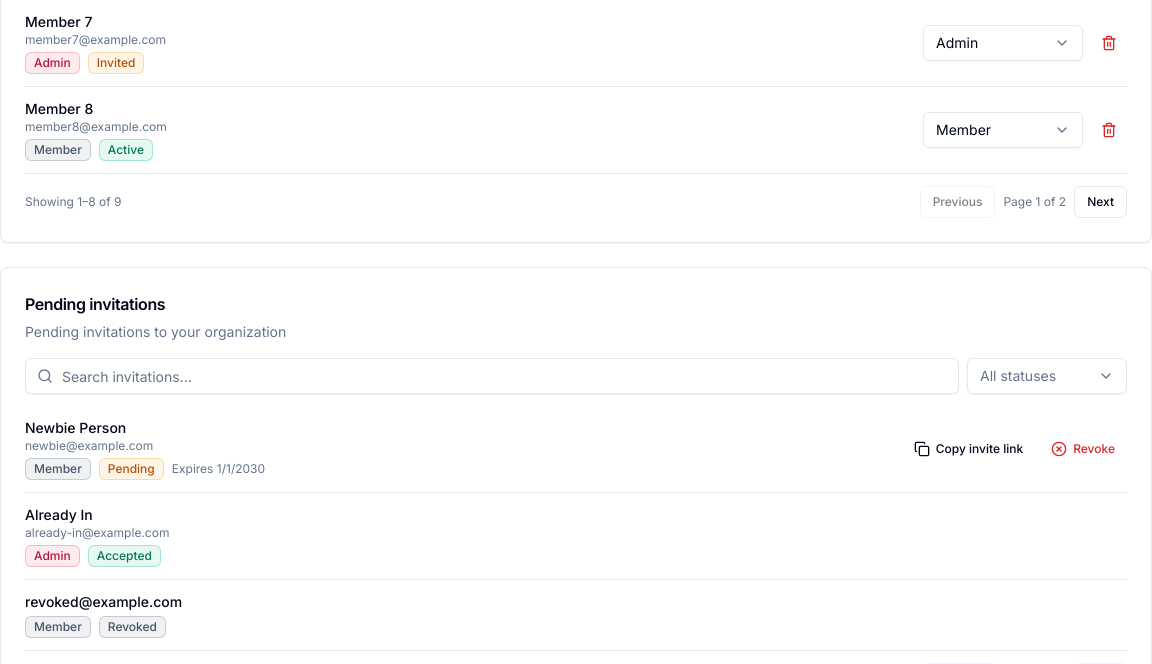
Test case: MembersSettingsPage — invitation manager (pending / accepted / revoked) › surfaces a specific error when the invitation was already accepted (AUTH-9)
The width and height of the screenshot is (1152, 664).
(page scrolled)
Expected: the text "newbie@example.com" is shown, x1=25 y1=438 x2=153 y2=453
Click the button "Revoke": (1083, 449) x1=1039 y1=433 x2=1127 y2=465
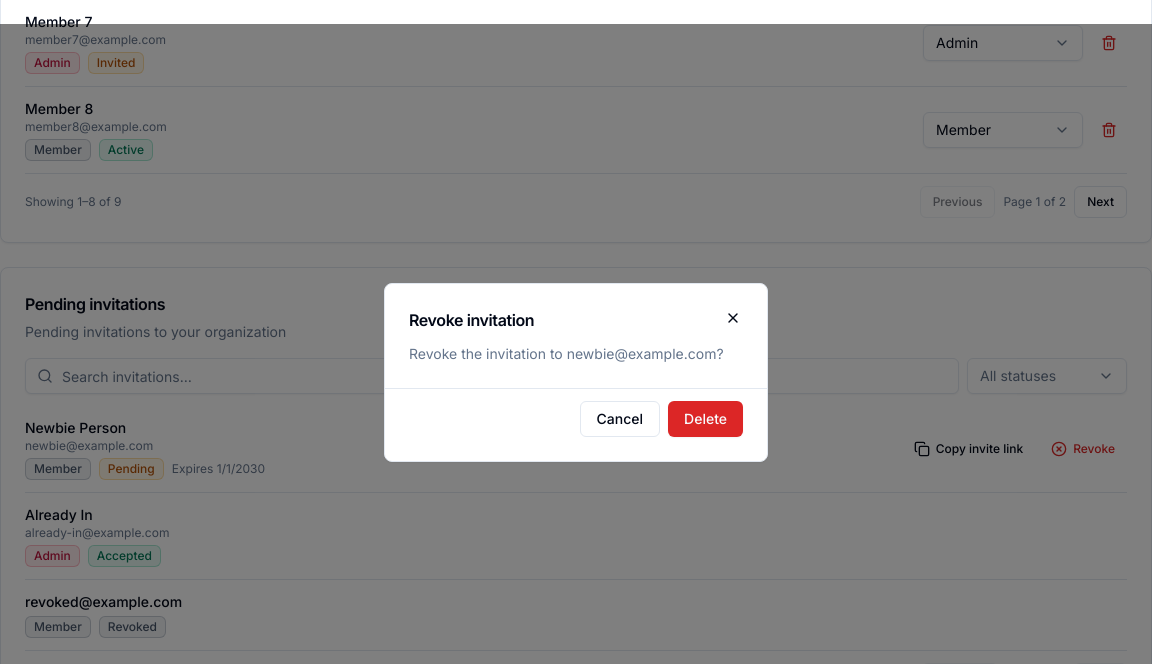
Click the button "Delete": (706, 418) x1=668 y1=400 x2=743 y2=436
(page scrolled)
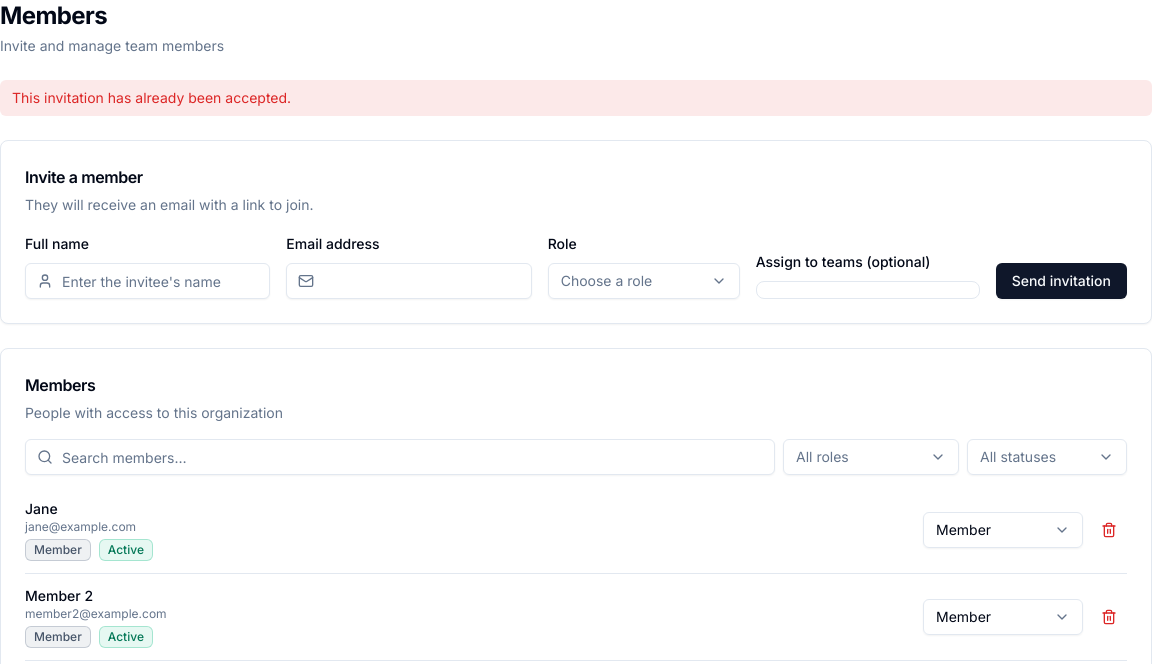
Expected: the text "This invitation has already been accepted." is shown, x1=0 y1=80 x2=1151 y2=116
